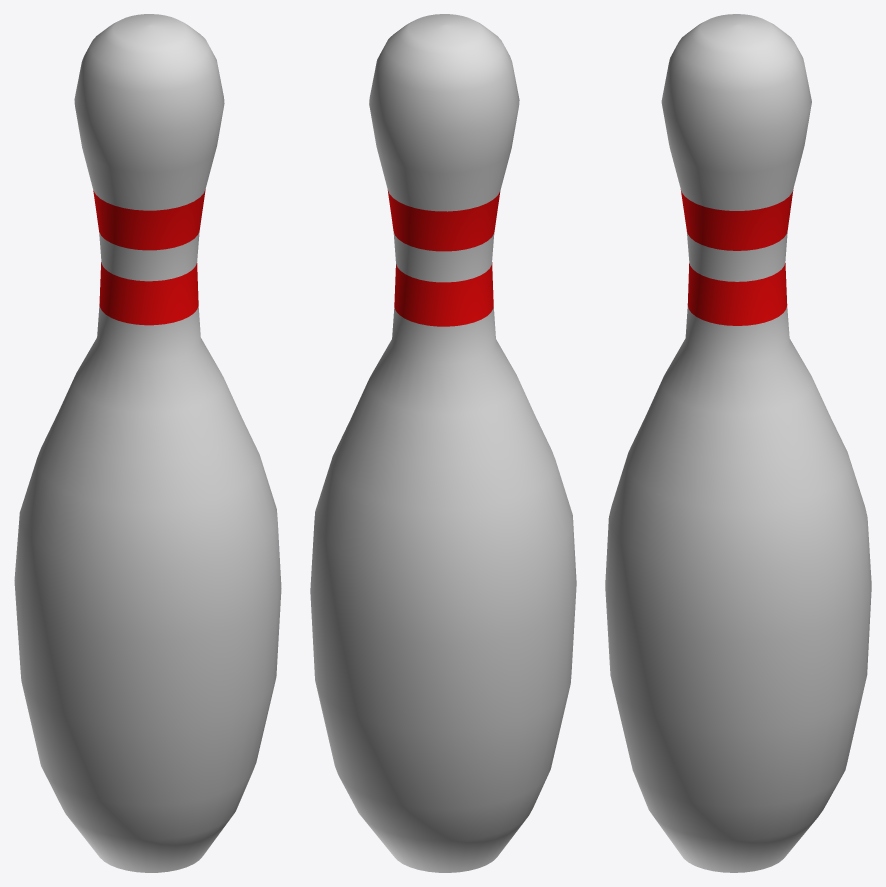
Rendered from birillo.glb.
The picture shows the model from 3 angles, left to right: view 1: azimuth 30°, elevation 25°; view 2: azimuth 150°, elevation 25°; view 3: azimuth 270°, elevation 25°; orthographic projection.
Visible parts, largest first — view 1: Cylinder; view 2: Cylinder; view 3: Cylinder.
Boxes of the visible parts, x1,y1,x2,y2 form: Cylinder: (14, 14, 281, 872); Cylinder: (310, 14, 576, 872); Cylinder: (605, 14, 871, 872).
Size of the model in its own units: 1.24 by 4.23 by 1.24.
